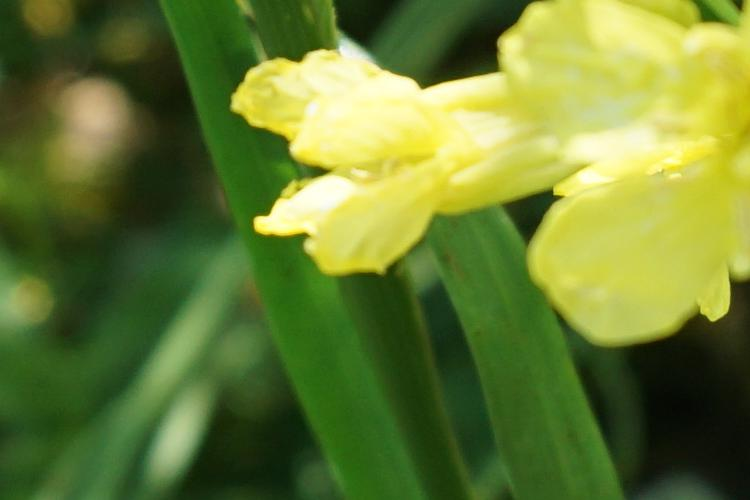yellow: (228, 48, 744, 347)
